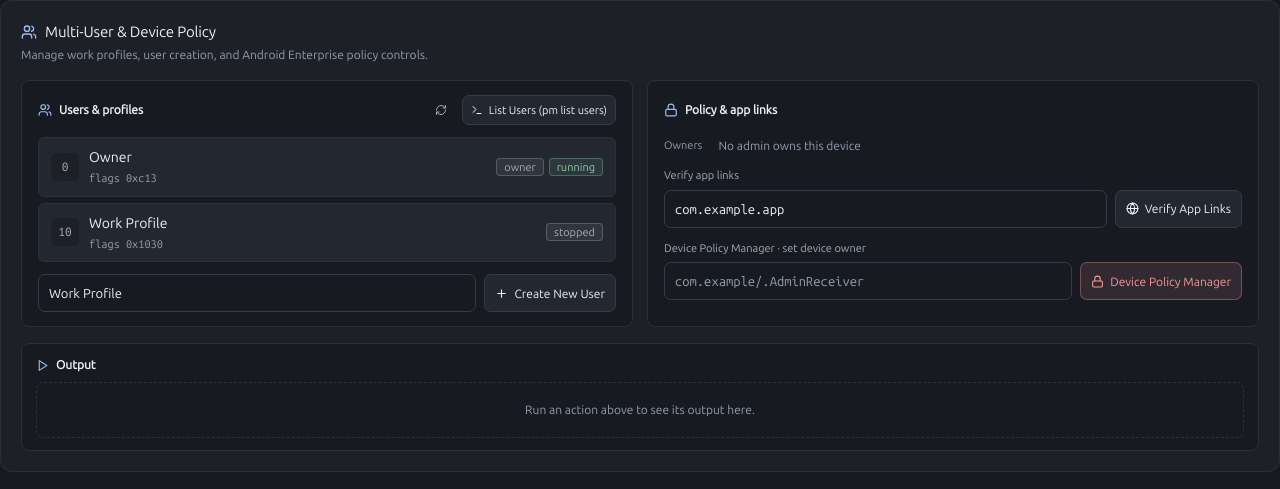
UserPolicyPanel › runs app links for the typed package and shows the output in the panel
This screenshot has width=1280, height=489.
Expected: the text "Work Profile" is shown, x1=89 y1=214 x2=168 y2=230
Expected: the text "No admin owns this device" is shown, x1=718 y1=139 x2=861 y2=152
Click the button "Verify App Links" at (1178,208), box x1=1115 y1=190 x2=1242 y2=228
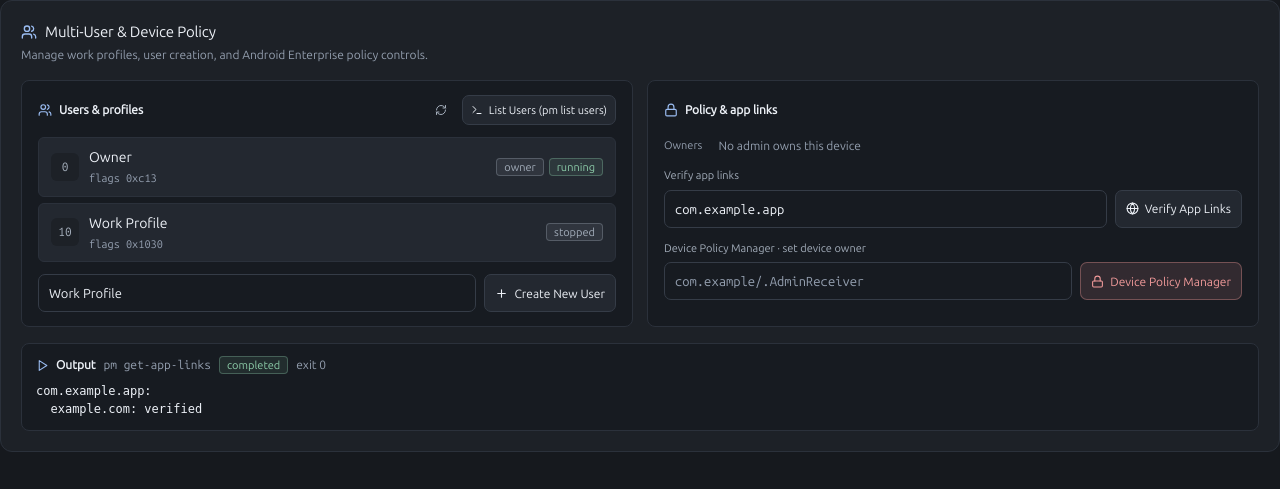
Expected: the text "com.example.app: example.com: verified" is shown, x1=36 y1=384 x2=202 y2=416
Expected: the text "completed" is shown, x1=219 y1=356 x2=288 y2=374
